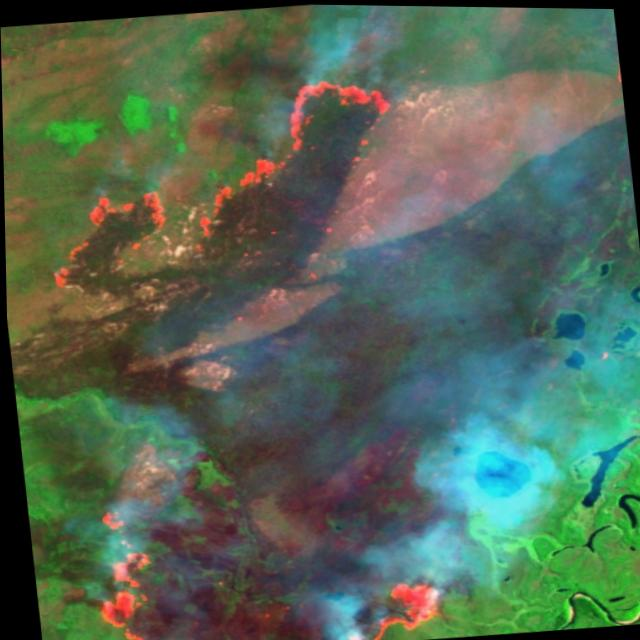fire: (19, 66, 421, 305), (61, 477, 460, 640)
